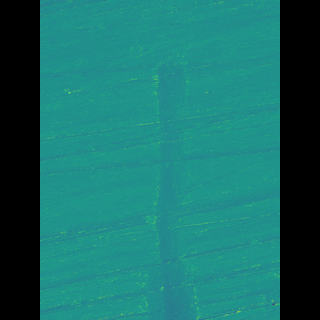Loch: (145, 54, 190, 319)
